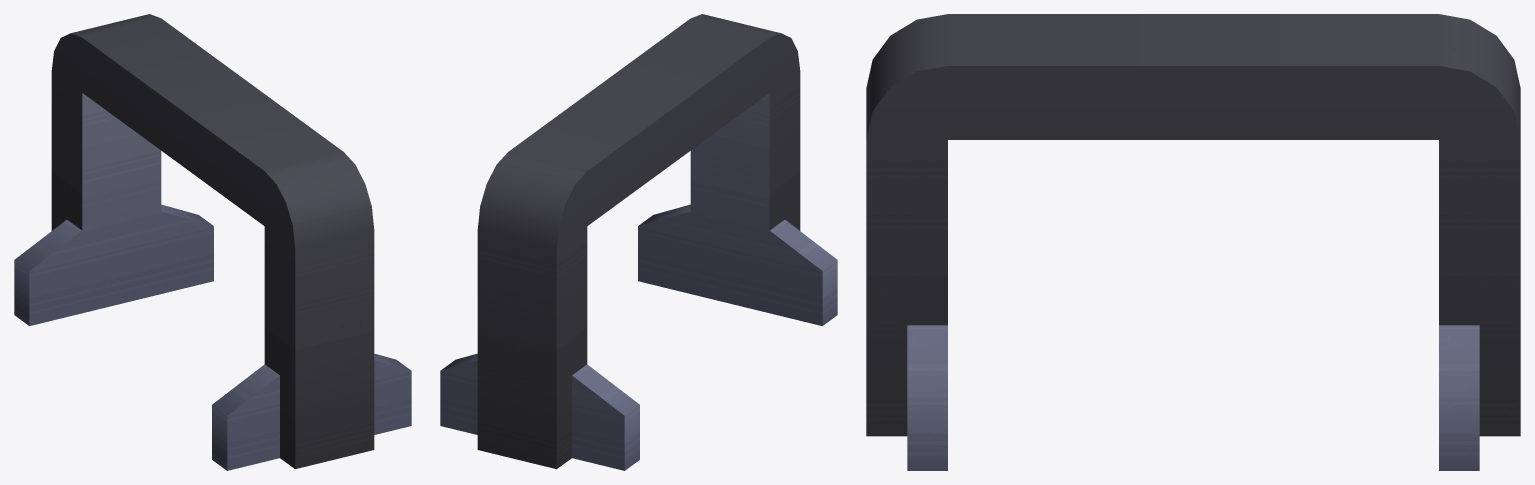
Rendered from scanner-low.glb.
3 renders of one model, left to right at view 1: azimuth 30°, elevation 25°; view 2: azimuth 150°, elevation 25°; view 3: azimuth 270°, elevation 25°, orthographic. The views are drawn at different scales.
Parts seen in each view (by area): view 1: scanner-low; view 2: scanner-low; view 3: scanner-low.
Part boxes in pixels (x1=…): scanner-low: x1=14, y1=14, x2=411, y2=470; scanner-low: x1=440, y1=14, x2=837, y2=470; scanner-low: x1=866, y1=14, x2=1520, y2=470.
Bounding box in the file's own units: 0.7 × 1 × 1.6.
Materials: 1 (1 with a texture image).
